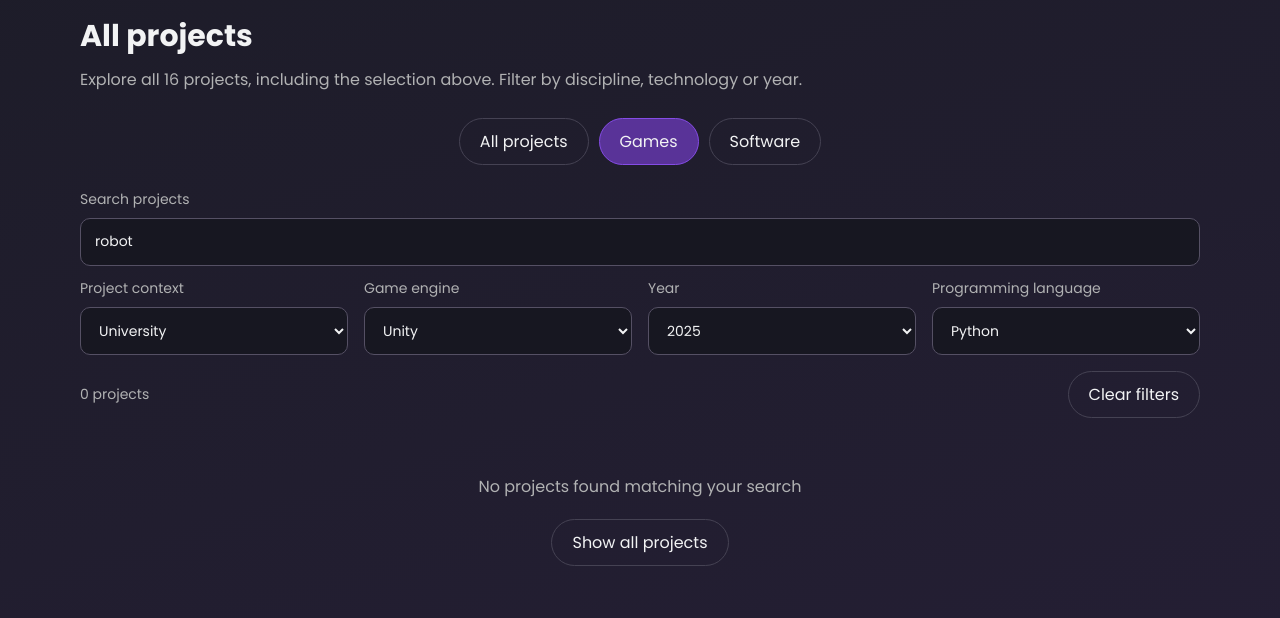
Test: recovers from an empty combined result by clearing every filter while retaining unrelated query parameters
The width and height of the screenshot is (1280, 618).
(page scrolled)
Click the button "Show all projects". click: (640, 542)
box: [552,518,728,566]
(page scrolled)
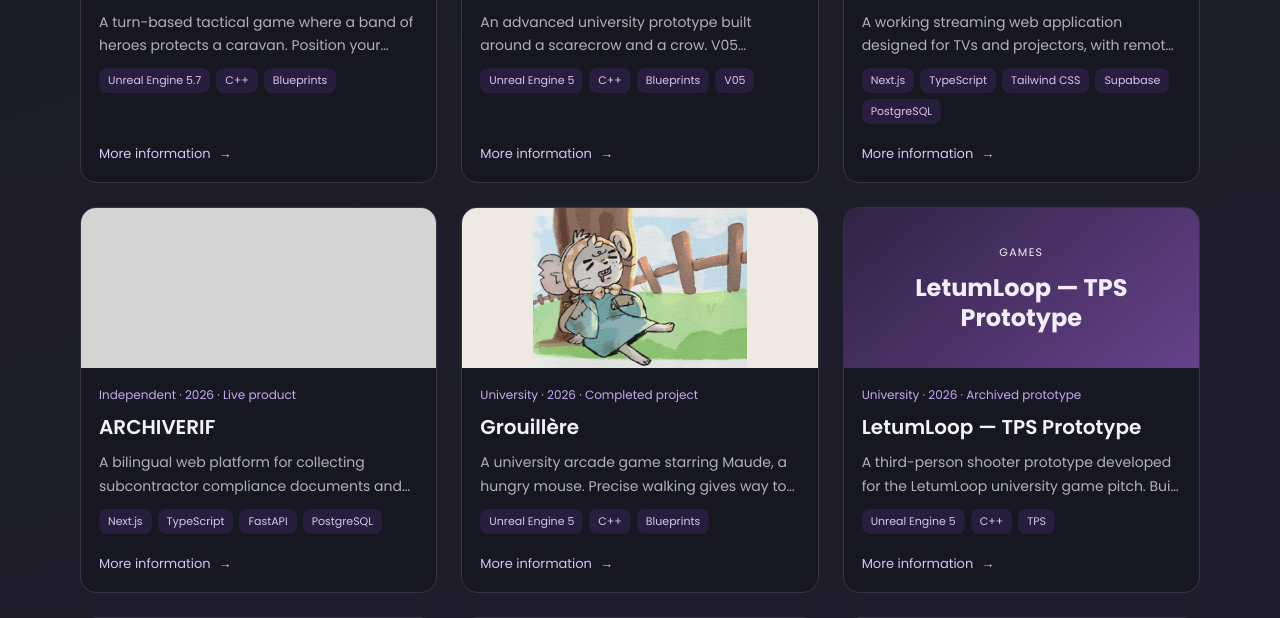
Check: the link with aria-label "More information about ARCHIVERIF" is shown, box [80,207,437,593]
